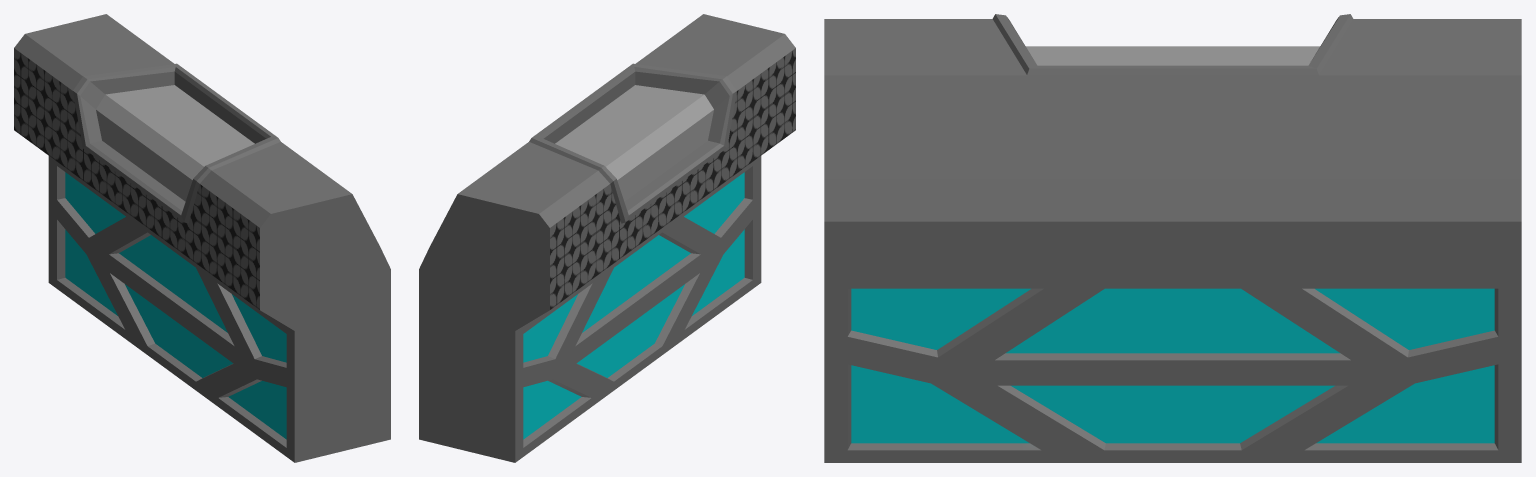
3 renders of one model, left to right at view 1: azimuth 30°, elevation 25°; view 2: azimuth 150°, elevation 25°; view 3: azimuth 270°, elevation 25°, orthographic. The views are drawn at different scales.
Visible parts, largest first — view 1: SM_B_Part27; view 2: SM_B_Part27; view 3: SM_B_Part27.
Boxes of the visible parts, left/top/right/bottom form: SM_B_Part27: left=14, top=14, right=390, bottom=462; SM_B_Part27: left=419, top=14, right=795, bottom=462; SM_B_Part27: left=824, top=14, right=1521, bottom=462.
Size of the model in its own units: 76.8 by 243 by 141.
1 material, 1 textured.
